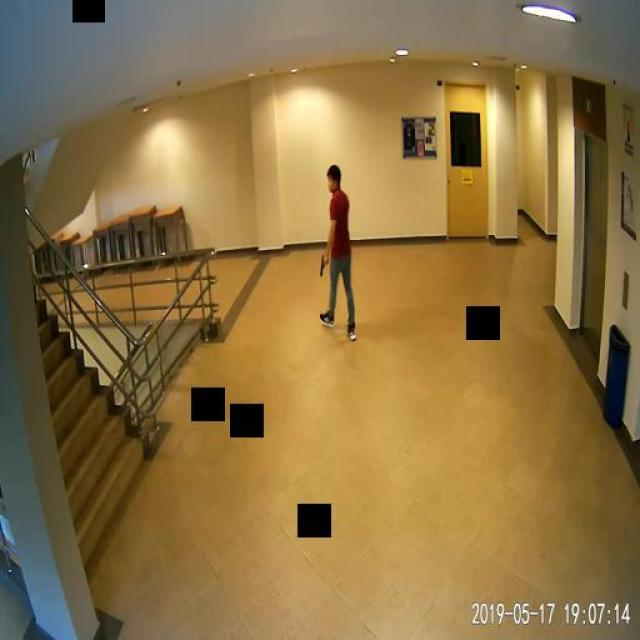gun: (319, 254, 326, 274)
